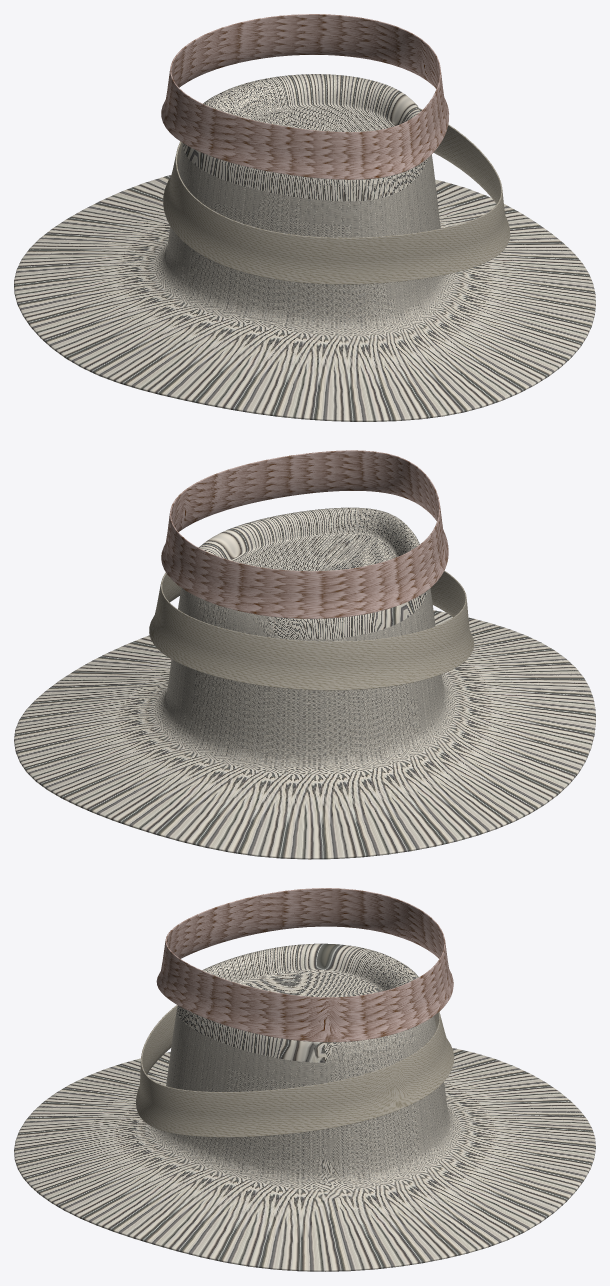
Rendered from w5-shelf-stack-set_14_038.glb.
The picture shows the model from 3 angles, top to bottom: view 1: azimuth 30°, elevation 25°; view 2: azimuth 150°, elevation 25°; view 3: azimuth 270°, elevation 25°; orthographic projection. The views are drawn at different scales.
Visible parts, largest first — view 1: Shelf_set_14_038, Shelf_set_14_039, Shelf_set_14_062; view 2: Shelf_set_14_038, Shelf_set_14_039, Shelf_set_14_062; view 3: Shelf_set_14_038, Shelf_set_14_039, Shelf_set_14_062.
Part boxes in pixels (left/top/right/bottom): Shelf_set_14_038: left=14, top=74, right=595, bottom=421; Shelf_set_14_039: left=161, top=14, right=448, bottom=179; Shelf_set_14_062: left=163, top=108, right=510, bottom=284; Shelf_set_14_038: left=14, top=507, right=595, bottom=859; Shelf_set_14_039: left=161, top=450, right=448, bottom=618; Shelf_set_14_062: left=149, top=570, right=474, bottom=690; Shelf_set_14_038: left=14, top=943, right=595, bottom=1271; Shelf_set_14_039: left=156, top=888, right=453, bottom=1042; Shelf_set_14_062: left=136, top=1005, right=454, bottom=1137.
Size of the model in its own units: 0.2686 by 0.1189 by 0.2898.
Materials: 3 (3 with a texture image).
